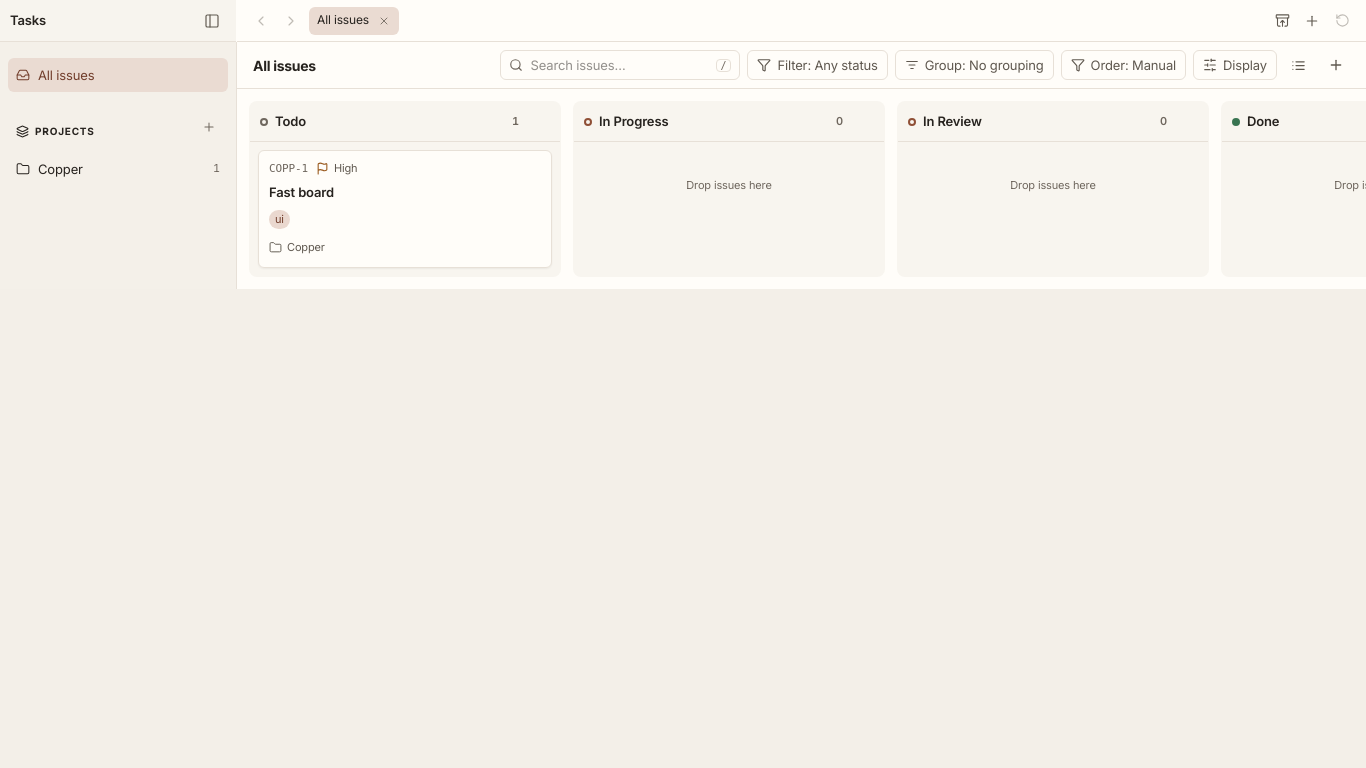
Scenario: edits issue labels from the context menu with current labels as defaults
The width and height of the screenshot is (1366, 768).
Right-click the button "COPP-1 High Fast board ui Copper" at (288, 169), box left=258, top=150, right=552, bottom=268
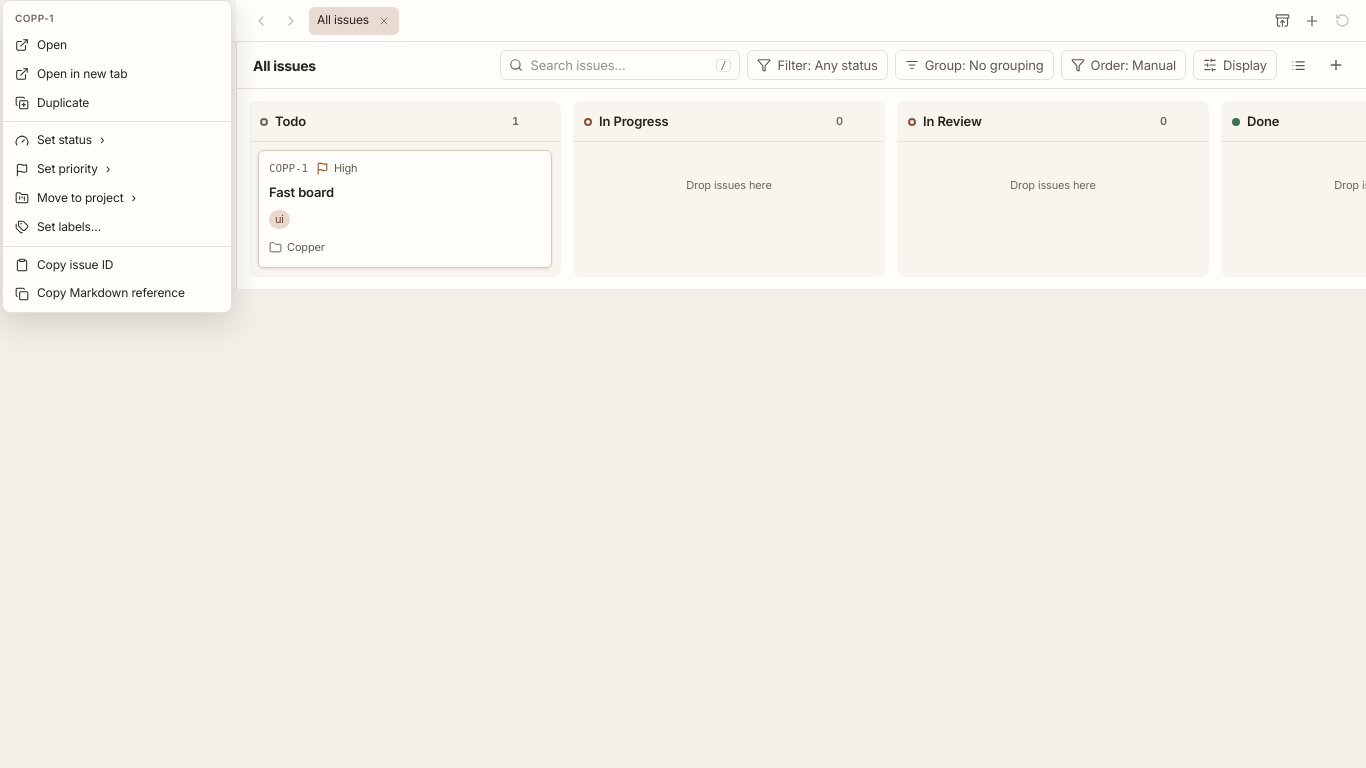
Click the menu item "Set labels…" at (58, 226), box left=15, top=219, right=101, bottom=234
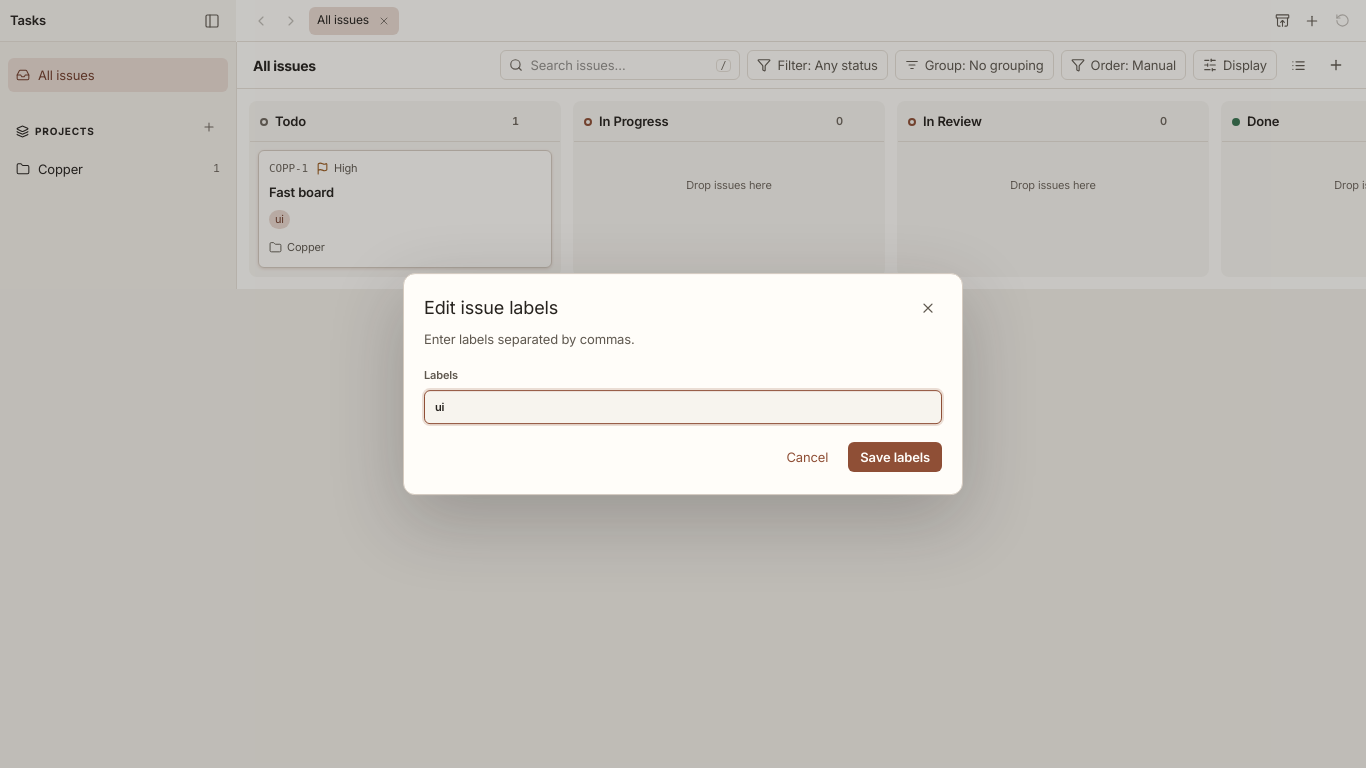
Now the field labelled "Labels" holds "ui"
Replace the text in the field labelled "Labels" with "bug, polish" at (683, 407), box left=424, top=390, right=942, bottom=424
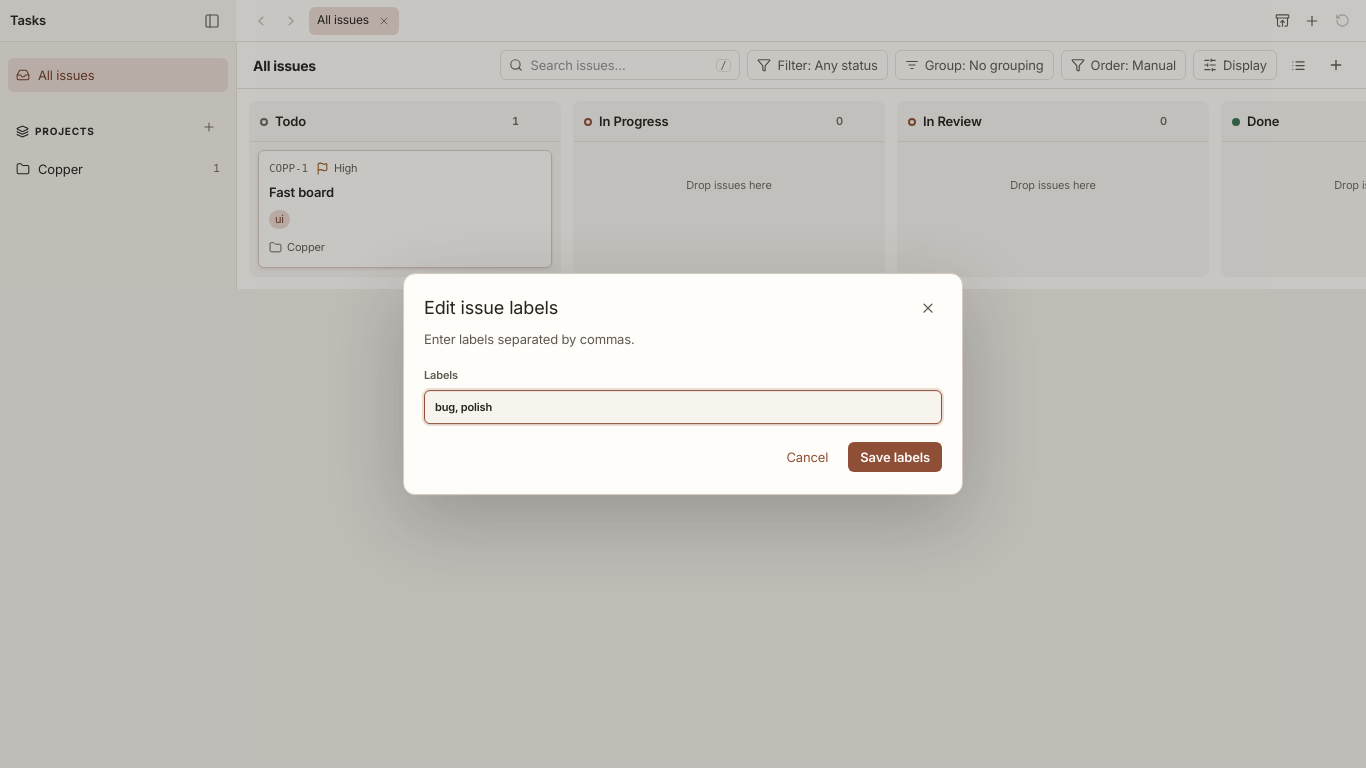
Click the button "Save labels" at (895, 457), box left=848, top=442, right=942, bottom=472
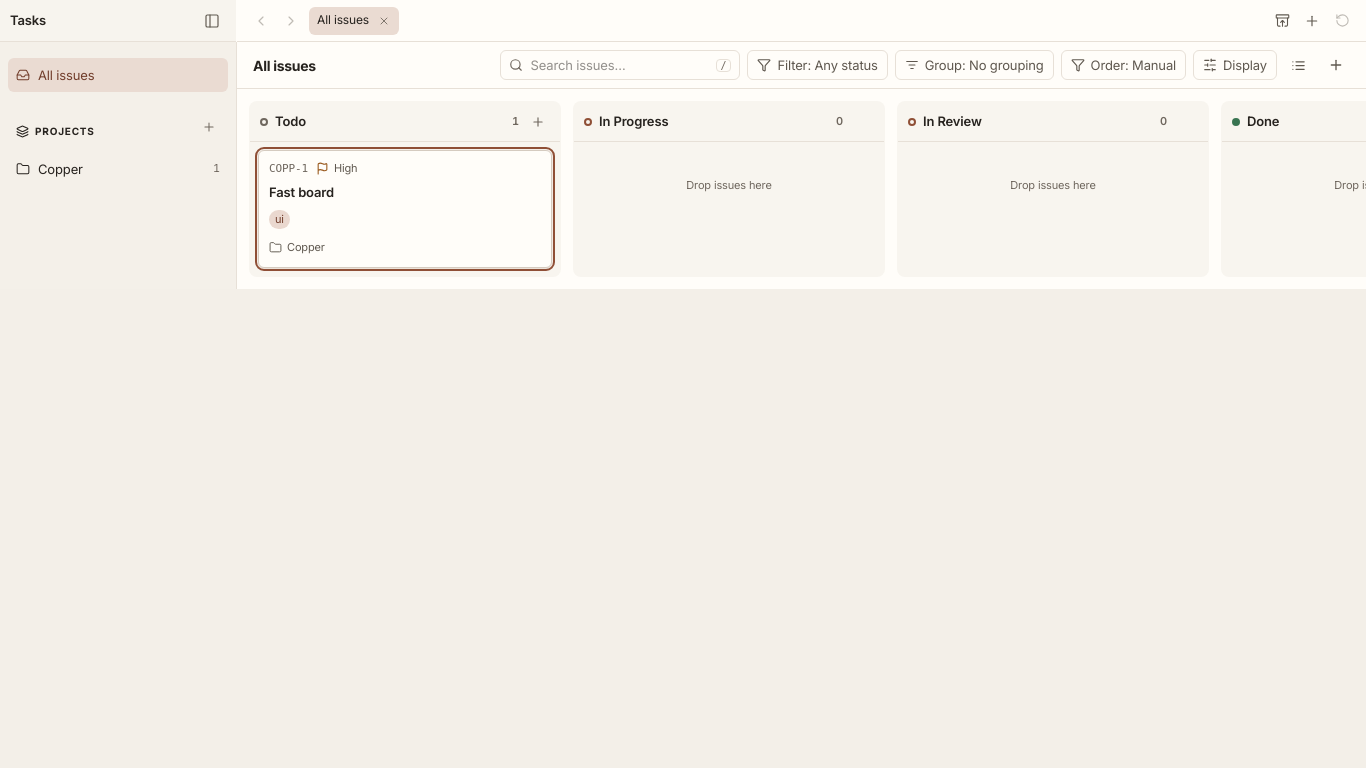
Now the heading "Edit issue labels" is gone
